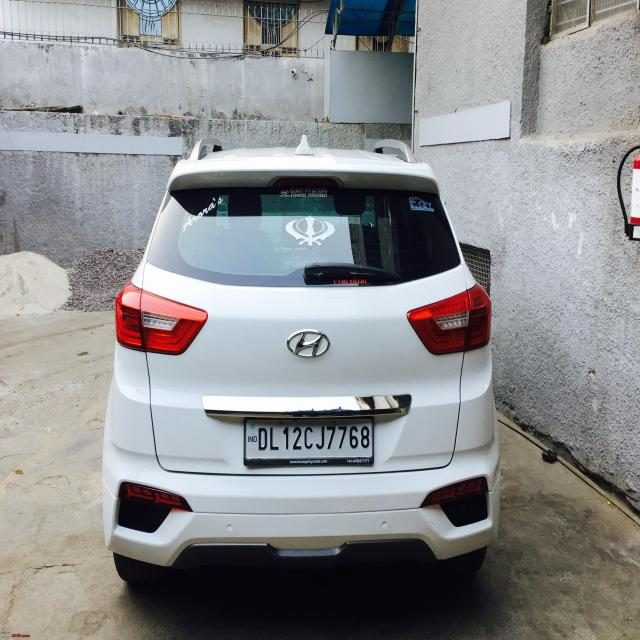Number-Plate: (243, 417, 374, 461)
